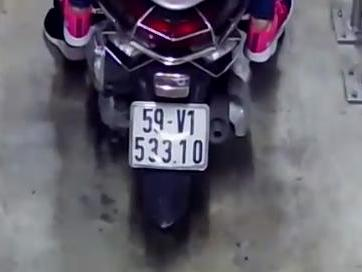num_plate: (129, 100, 209, 173)
